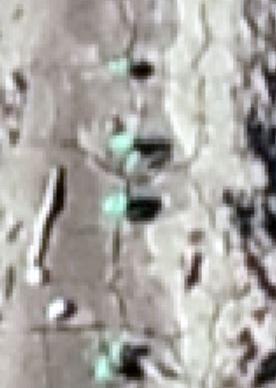cotton: (98, 344, 121, 379), (102, 196, 124, 219), (111, 135, 133, 157), (114, 60, 130, 72)
